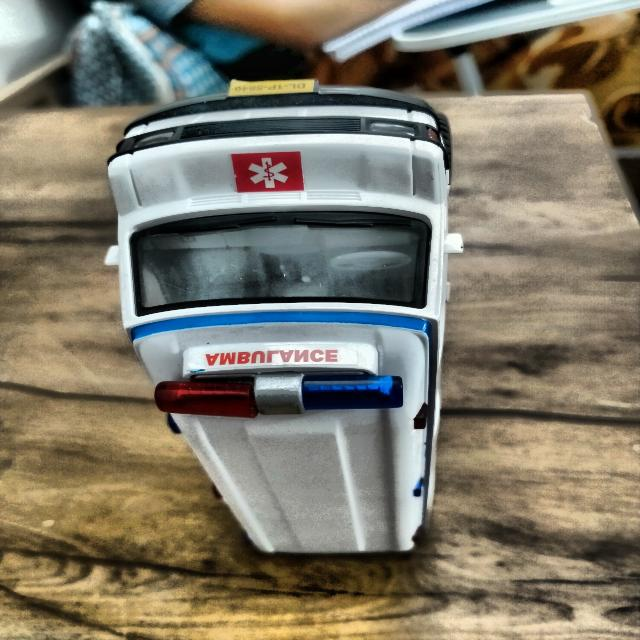Ambulance: (106, 74, 472, 567)
